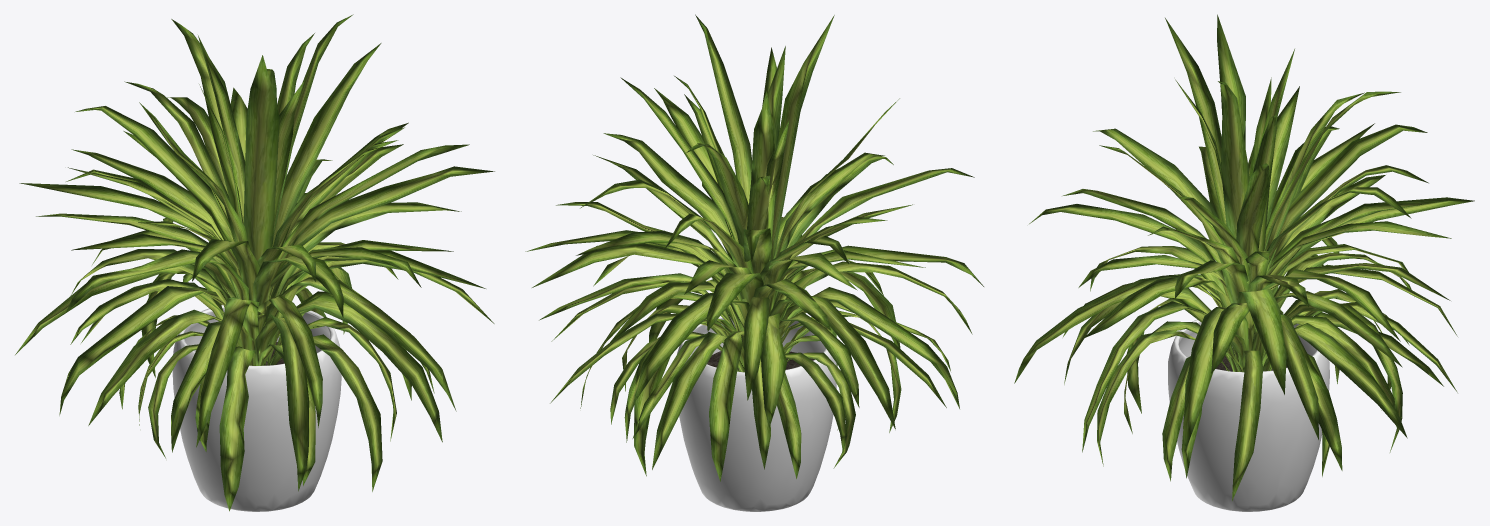
The model's file is plant-round-pot.glb.
3 views of the same model, side by side, from view 1: azimuth 30°, elevation 25°; view 2: azimuth 150°, elevation 25°; view 3: azimuth 270°, elevation 25° (orthographic). The views are drawn at different scales.
Parts seen in each view (by area): view 1: plant-round-pot; view 2: plant-round-pot; view 3: plant-round-pot.
Boxes of the visible parts, x1,y1,x2,y2 form: plant-round-pot: (15, 14, 494, 511); plant-round-pot: (525, 14, 983, 511); plant-round-pot: (1014, 14, 1474, 511).
Size of the model in its own units: 0.5615 by 0.58 by 0.5336.
Materials: 3 (2 with a texture image).
